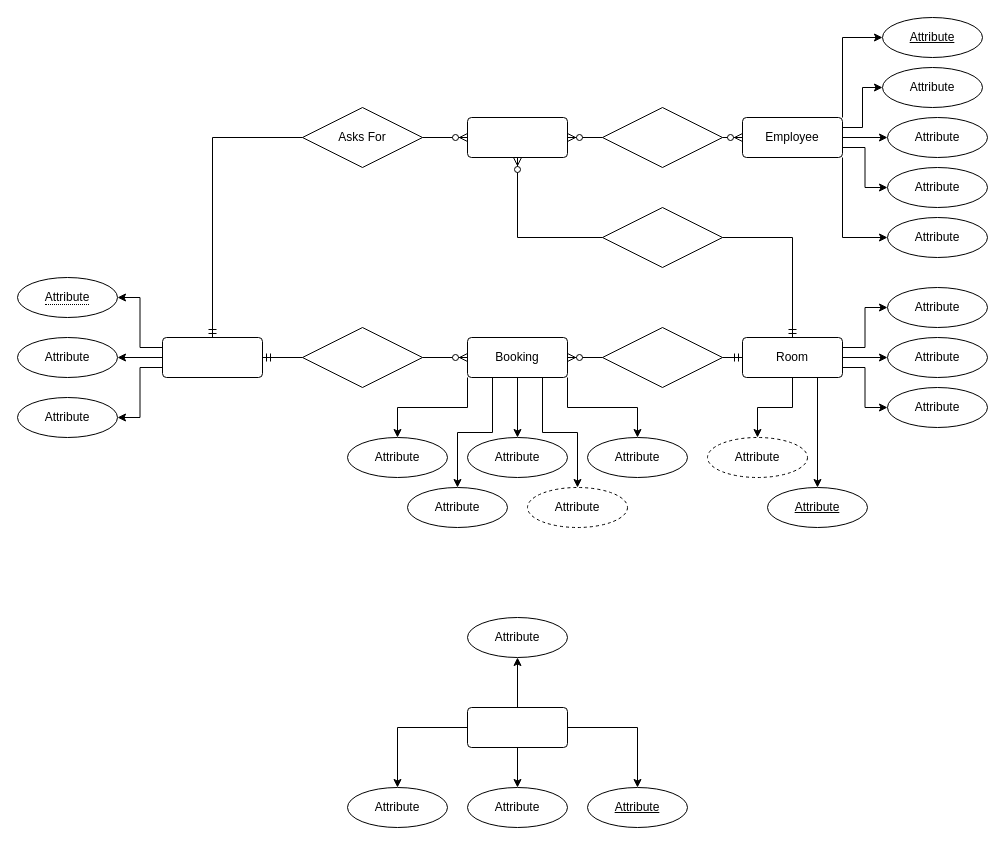
Some shapes in this 1005 by 845 pixel diagram are drawn without their labels. The shapes that lost their labels are listed below. From the top down, each one's centre as x and y in pixels, then its label:
At pixel 517 137: "Service".
At pixel 662 137: "Done By".
At pixel 662 237: "For".
At pixel 212 357: "Guest".
At pixel 362 357: "does".
At pixel 662 357: "of".
At pixel 517 727: "Transaction".
